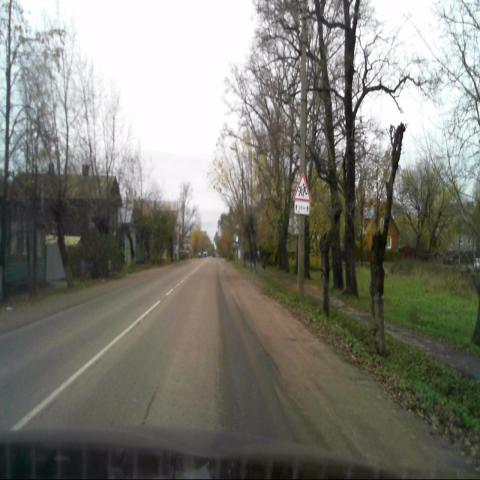1_23: (294, 173, 310, 200)
